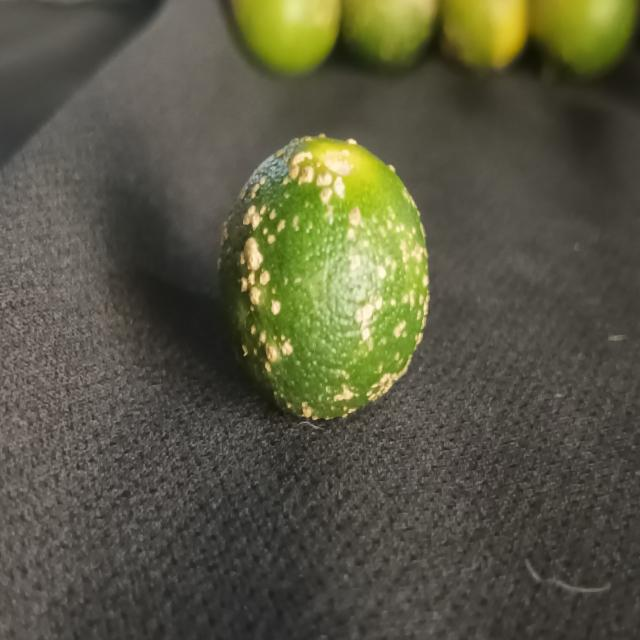scab: (211, 132, 431, 428)
